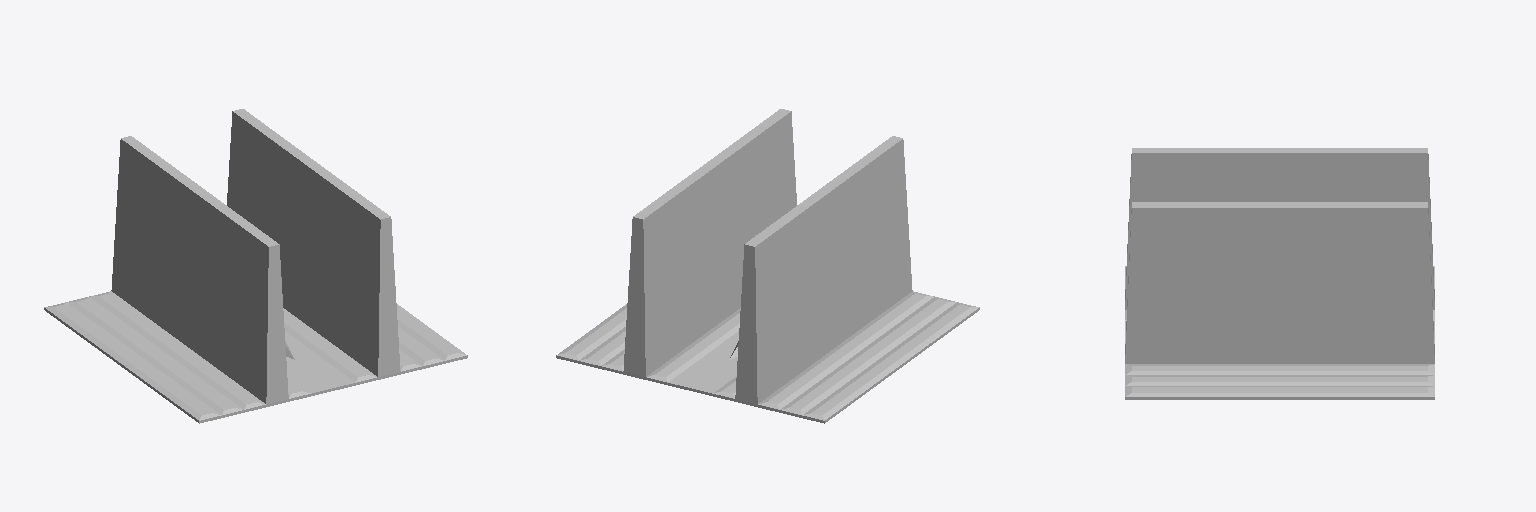
The model's file is wallmorph1.obj.
3 renders of one model, left to right at view 1: azimuth 30°, elevation 25°; view 2: azimuth 150°, elevation 25°; view 3: azimuth 270°, elevation 25°, orthographic.
Visible parts, largest first — view 1: Cube1; view 2: Cube1; view 3: Cube1.
Part boxes in pixels (left/top/right/bottom): Cube1: left=44, top=109, right=467, bottom=423; Cube1: left=556, top=109, right=979, bottom=423; Cube1: left=1125, top=148, right=1434, bottom=399.
Bounding box in the file's own units: 2 × 1.11 × 2.